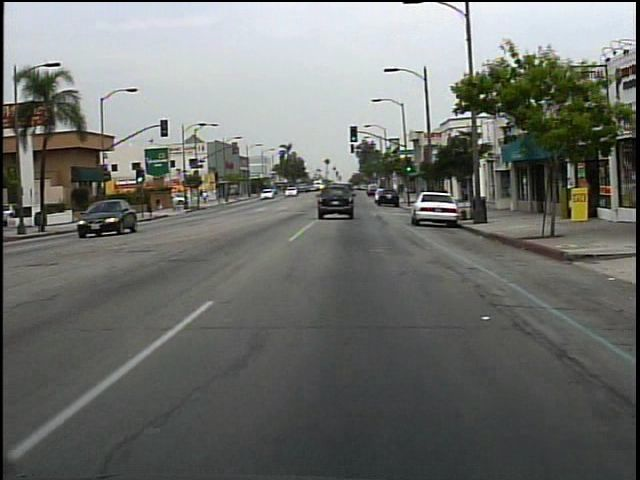person: (202, 188, 211, 207)
